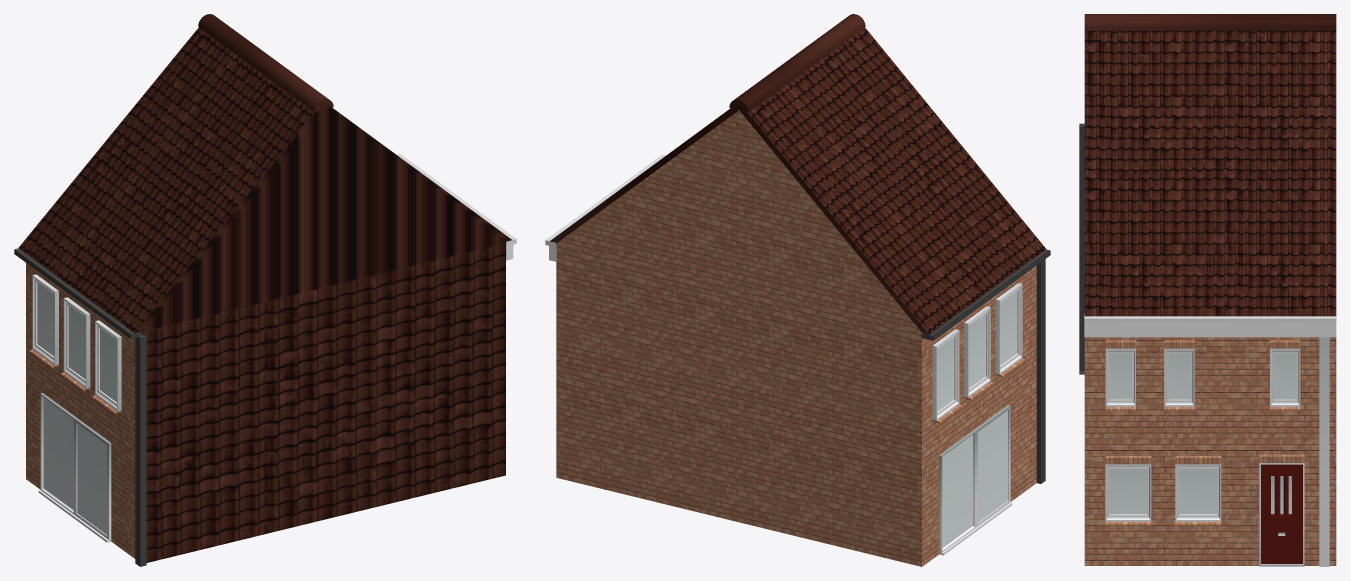
The model's file is It_Bynt_8.fbx.
3 views of the same model, side by side, from view 1: azimuth 30°, elevation 25°; view 2: azimuth 150°, elevation 25°; view 3: azimuth 270°, elevation 25° (orthographic). The views are drawn at different scales.
Parts seen in each view (by area): view 1: It_Bynt_8; view 2: It_Bynt_8; view 3: It_Bynt_8.
Boxes of the visible parts, x1,y1,x2,y2 form: It_Bynt_8: (14,14,516,566); It_Bynt_8: (545,14,1050,566); It_Bynt_8: (1079,14,1336,566).
Bounding box in the file's own units: 1006 × 1047 × 536.
